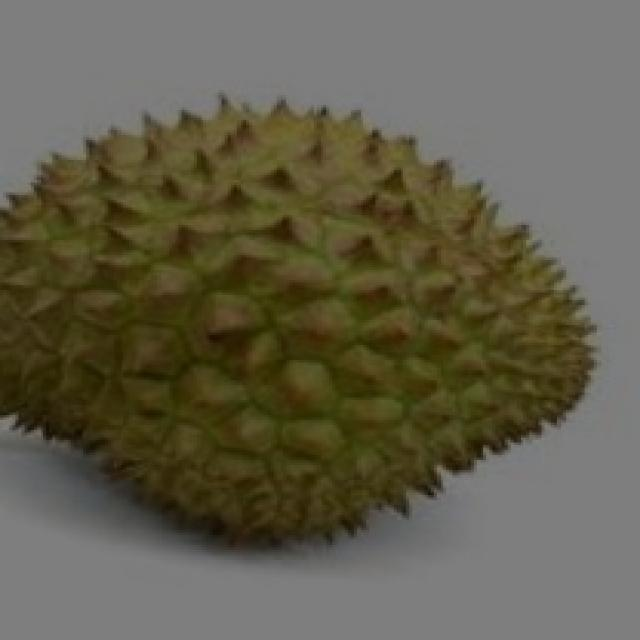fruit: (0, 205, 366, 610), (283, 182, 634, 598)
